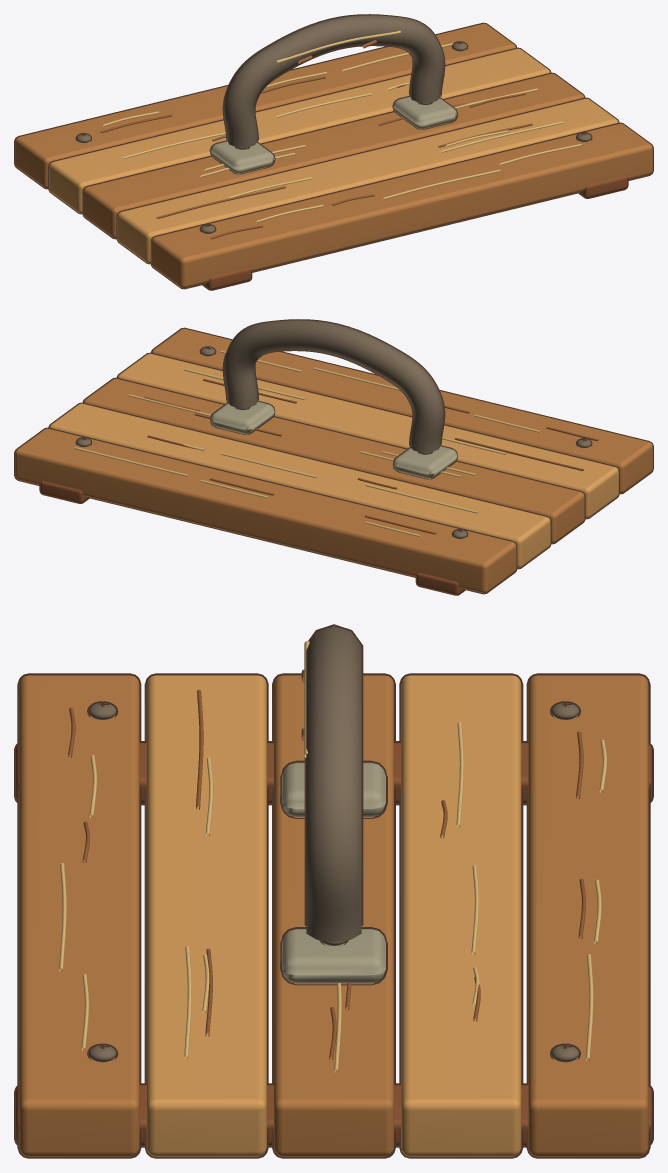
The model's file is assembly_10002.glb.
3 views of the same model, one above another, from view 1: azimuth 30°, elevation 25°; view 2: azimuth 150°, elevation 25°; view 3: azimuth 270°, elevation 25° (orthographic). The views are drawn at different scales.
Visible parts, largest first — view 1: Surface_wood, Surface_woodlight, Surface_edge.001, Surface_ink.001, Surface_chip.001, Surface_metal.001, Surface_grain, Surface_wooddark; view 2: Surface_wood, Surface_woodlight, Surface_edge.001, Surface_ink.001, Surface_chip.001, Surface_metal.001, Surface_grain, Surface_wooddark; view 3: Surface_wood, Surface_woodlight, Surface_edge.001, Surface_ink.001, Surface_metal.001, Surface_chip.001, Surface_wooddark, Surface_grain.
Boxes of the visible parts, <box> form: Surface_wood: <box>15,23,652,288</box>; Surface_woodlight: <box>49,48,618,263</box>; Surface_edge.001: <box>76,15,591,233</box>; Surface_ink.001: <box>14,14,653,290</box>; Surface_chip.001: <box>103,30,581,222</box>; Surface_metal.001: <box>210,96,457,173</box>; Surface_grain: <box>100,75,532,239</box>; Surface_wooddark: <box>203,176,627,289</box>; Surface_wood: <box>15,328,652,593</box>; Surface_woodlight: <box>49,353,618,568</box>; Surface_edge.001: <box>76,320,591,538</box>; Surface_ink.001: <box>14,319,653,595</box>; Surface_chip.001: <box>74,350,540,536</box>; Surface_metal.001: <box>210,401,457,478</box>; Surface_grain: <box>143,379,598,534</box>; Surface_wooddark: <box>40,481,464,594</box>; Surface_wood: <box>19,675,648,1156</box>; Surface_woodlight: <box>146,675,521,1156</box>; Surface_edge.001: <box>88,626,579,1062</box>; Surface_ink.001: <box>14,624,653,1158</box>; Surface_metal.001: <box>282,762,385,983</box>; Surface_chip.001: <box>59,641,606,1072</box>; Surface_wooddark: <box>16,743,651,1145</box>; Surface_grain: <box>68,689,585,1059</box>.
Size of the model in its own units: 0.833 by 0.2679 by 0.5217.
